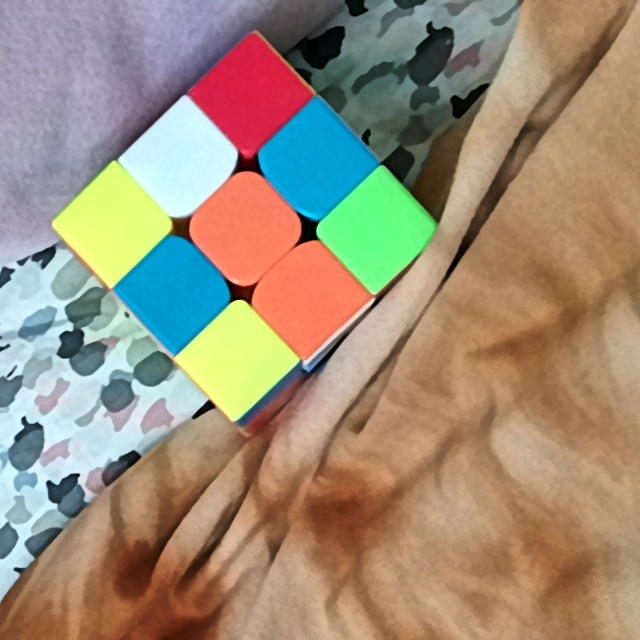tile: (79, 193, 144, 257), (276, 266, 340, 329), (212, 197, 277, 258), (347, 200, 409, 263), (204, 328, 270, 387), (217, 66, 279, 126), (287, 133, 346, 195), (152, 129, 211, 191), (144, 264, 205, 320)
